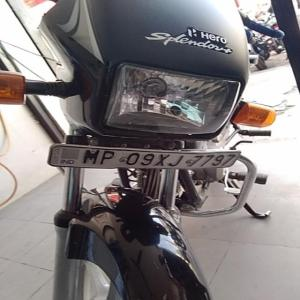Plate: (65, 144, 245, 174)
